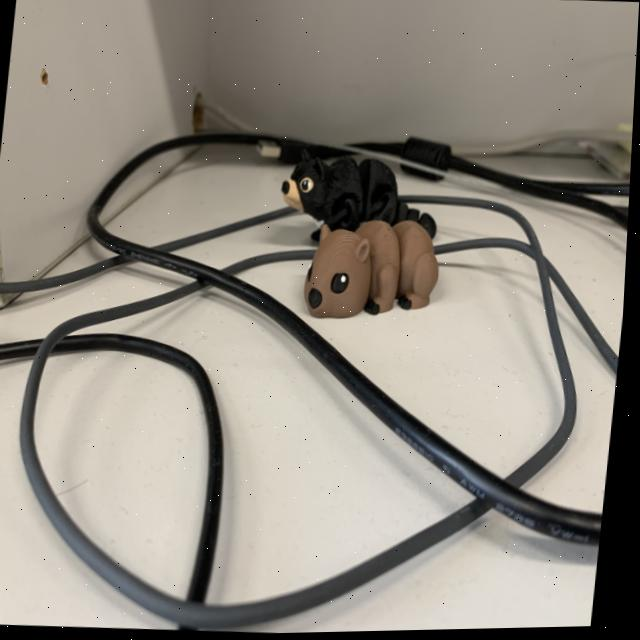tassie devil: (269, 142, 450, 239)
wombat: (298, 217, 443, 342)
